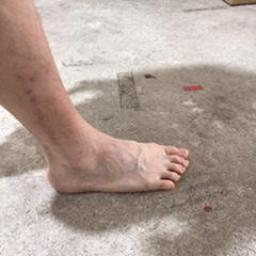Lateral View -Right Foot-: (32, 121, 199, 209)
